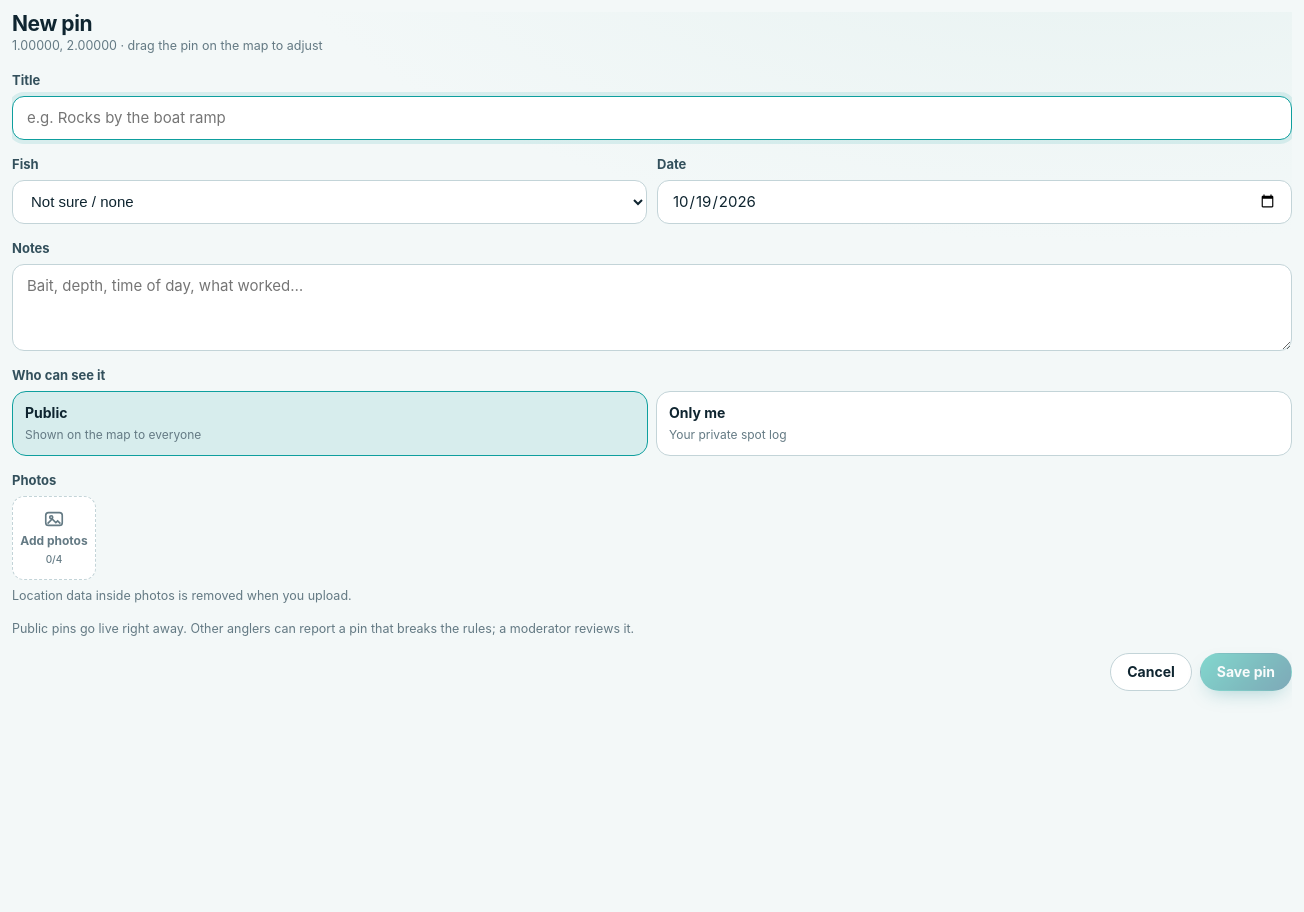
Test: PinForm › keeps the form and shows the error when saving fails
In the field with placeholder "e.g. Rocks by the boat ramp": [652, 118] box [12,96,1292,140], type "Pier"
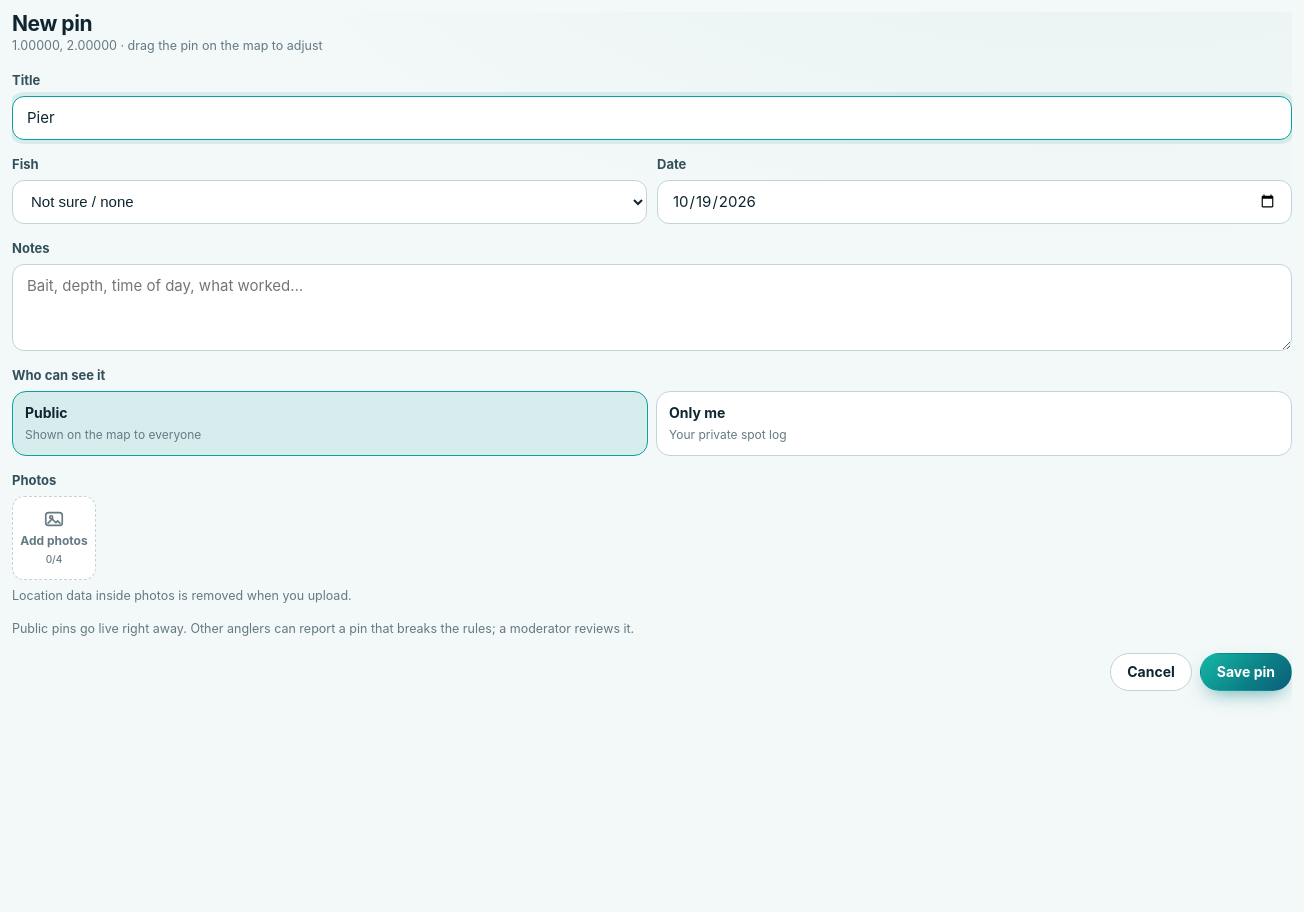
Click the button "Save pin": [1246, 672] box [1200,652,1292,690]
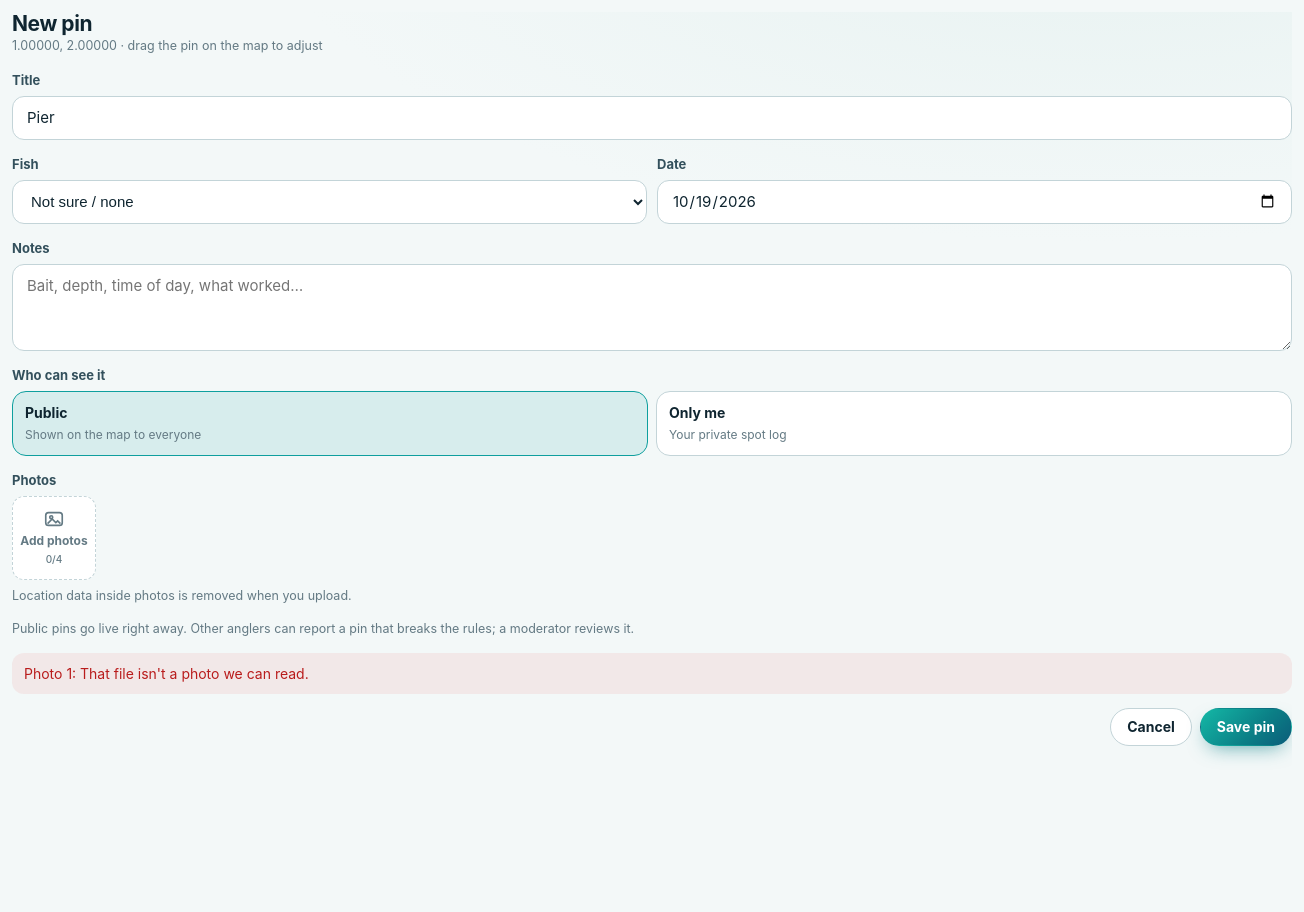
Expected: the button "Save pin" is enabled, [1200,708,1292,746]
Expected: the message shows "Photo 1", [24,664,309,682]
